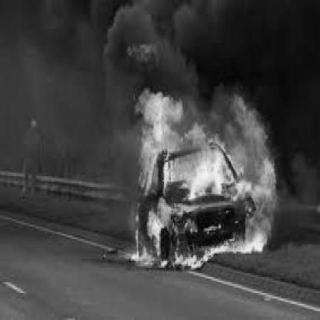Fire: (130, 85, 281, 271), (125, 40, 158, 66)
